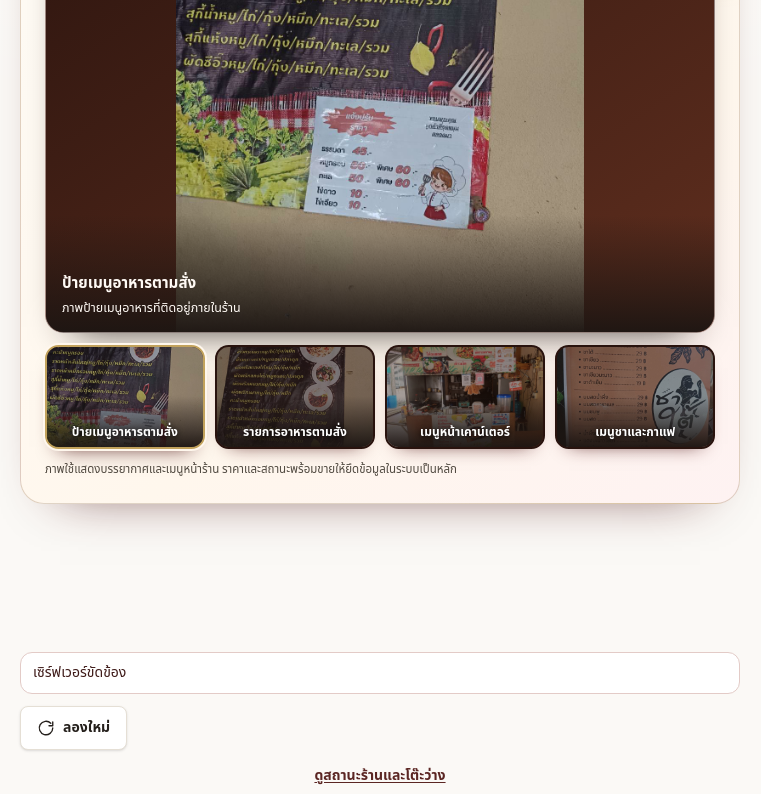
Test: หน้าเมนูสาธารณะ (Ticket 04) › production: error state พร้อมปุ่มลองใหม่ (DEV=false ไม่ fallback แม้ 500)
The width and height of the screenshot is (761, 794).
(page scrolled)
Check: the message reads "เซิร์ฟเวอร์ขัดข้อง", box [33,664,126,681]
Click the button with aria-label "ลองโหลดเมนูอีกครั้ง" at [74, 728], box [20,706,127,750]
(page scrolled)
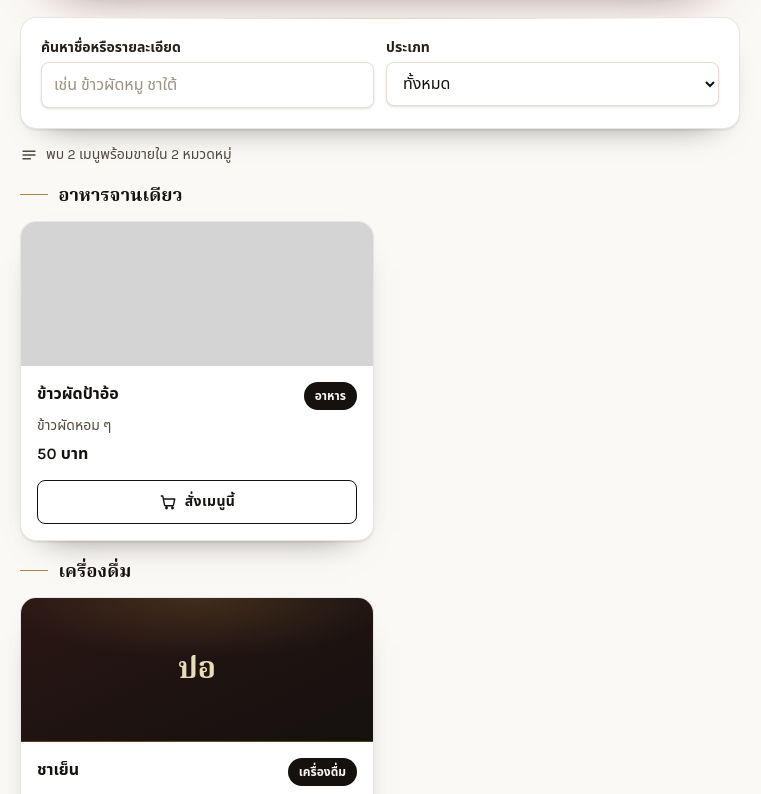
Check: the text "ชาเย็น" is shown, box [37,758,79,782]
Check: the text "ข้าวผัดป้าอ้อ" is shown, box [37,382,119,406]
